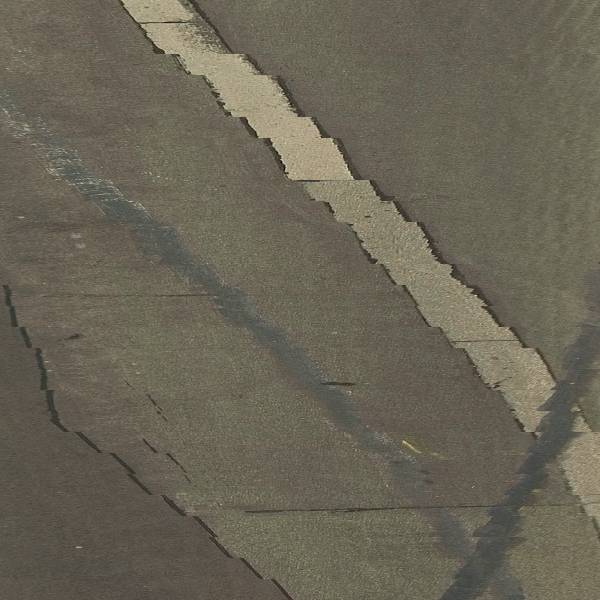road_damage: (1, 285, 293, 600), (239, 501, 588, 518), (41, 284, 234, 303), (316, 378, 364, 391)
